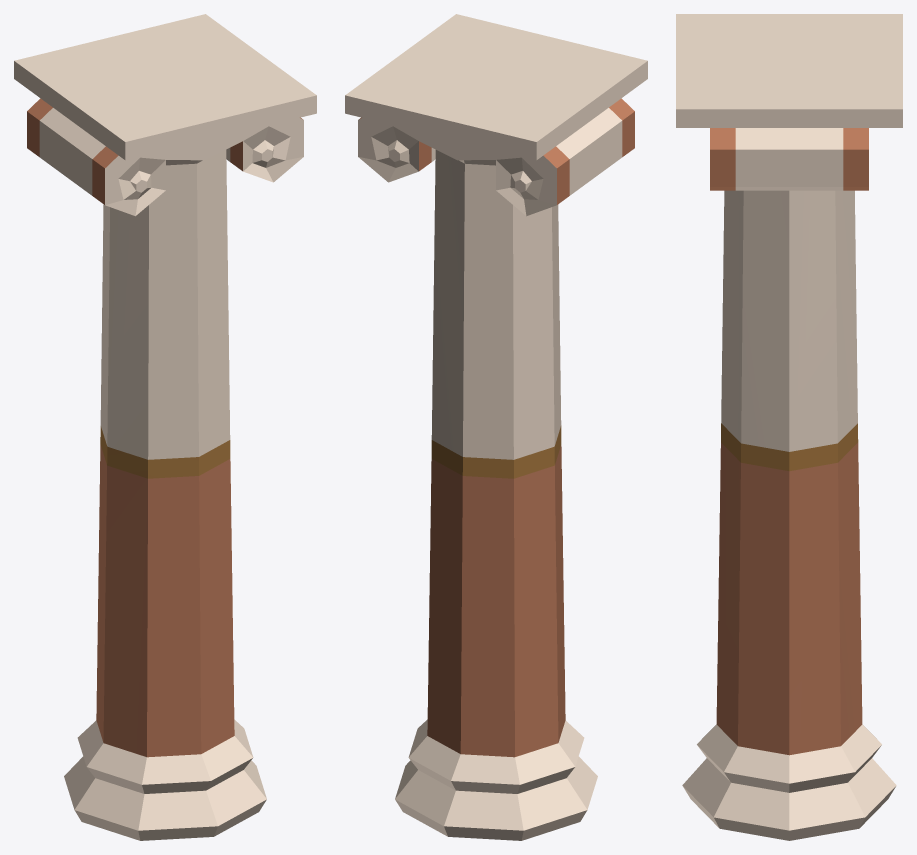
File: empire-pillar-ionic-small-color-empire.glb
3 views of the same model, side by side, from view 1: azimuth 30°, elevation 25°; view 2: azimuth 150°, elevation 25°; view 3: azimuth 270°, elevation 25° (orthographic).
Parts seen in each view (by area): view 1: SM_Pillar_Ionic_Small_Color_Empire; view 2: SM_Pillar_Ionic_Small_Color_Empire; view 3: SM_Pillar_Ionic_Small_Color_Empire.
Part boxes in pixels (x1,y1,x2,y2): SM_Pillar_Ionic_Small_Color_Empire: [14, 14, 316, 840]; SM_Pillar_Ionic_Small_Color_Empire: [345, 14, 647, 840]; SM_Pillar_Ionic_Small_Color_Empire: [676, 14, 902, 840].
Size of the model in its own units: 0.8632 by 3 by 0.8355.
